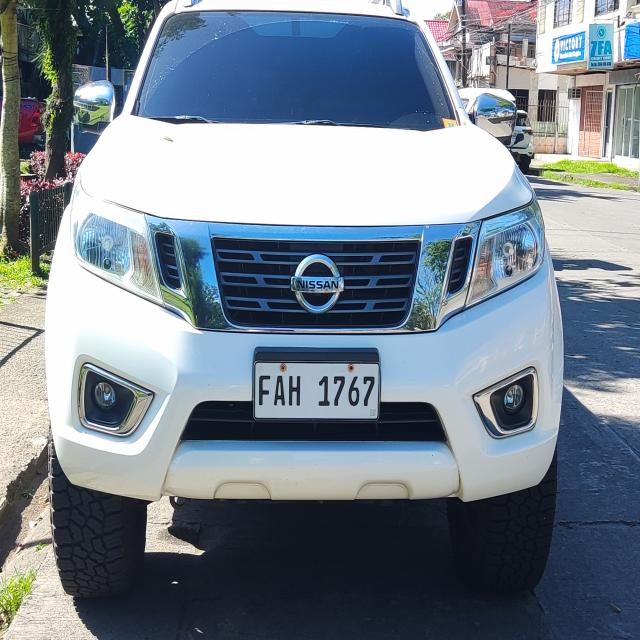plate: (250, 358, 384, 423)
